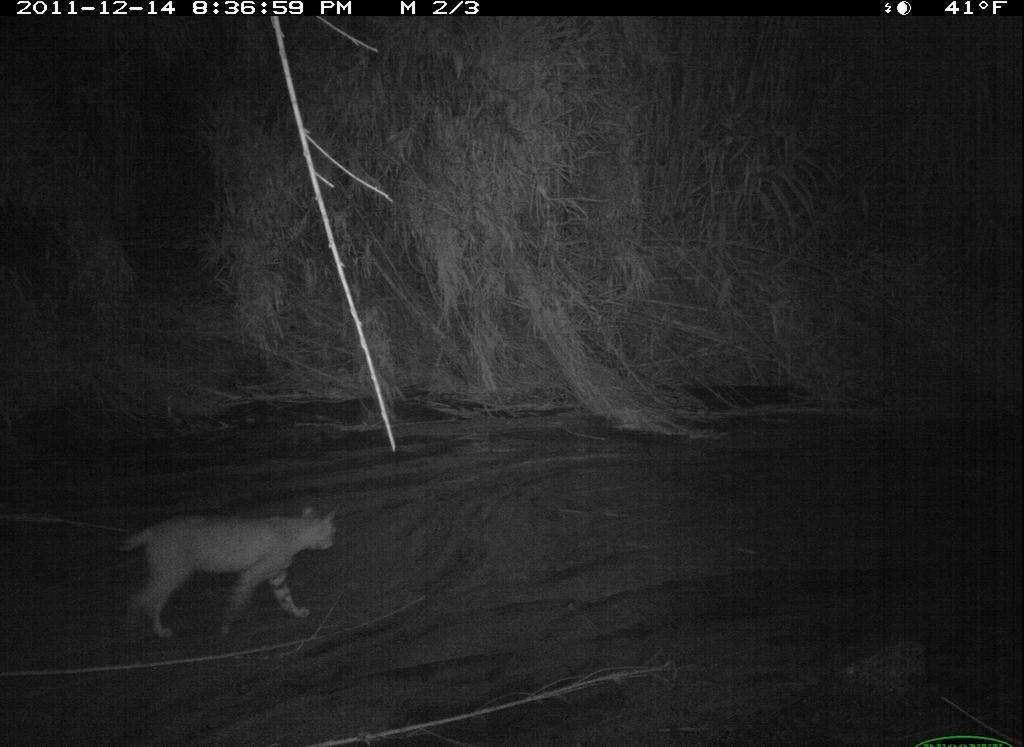bobcat: (111, 509, 346, 643)
